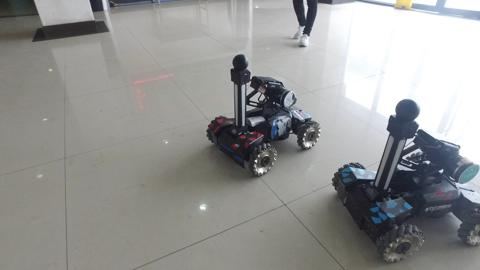chariot: (332, 95, 480, 267), (197, 48, 322, 180)
